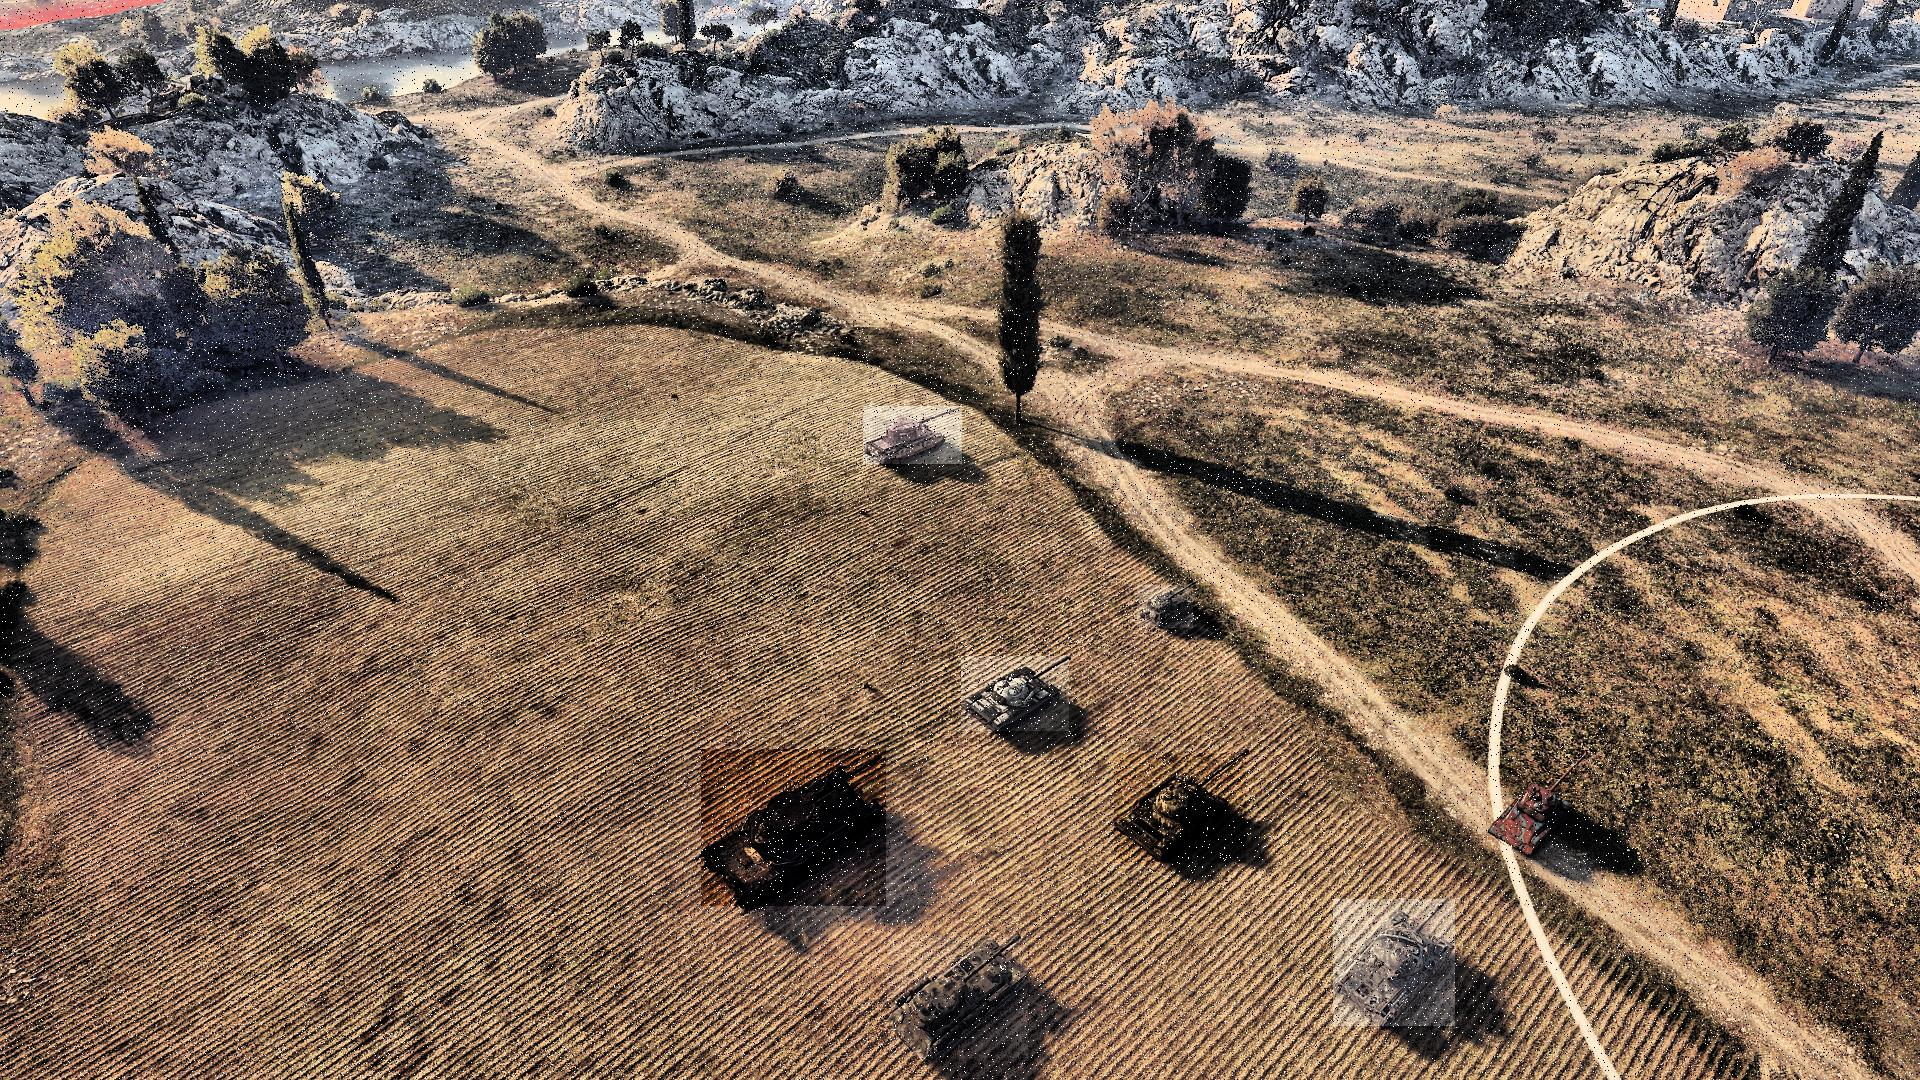military-vehicle: (702, 750, 886, 907), (889, 935, 1029, 1059), (1333, 899, 1455, 1027), (1114, 753, 1246, 864), (1486, 765, 1580, 860), (961, 657, 1069, 732), (864, 406, 961, 465), (1137, 585, 1193, 628)
